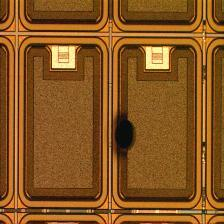PO CONTAMINATION: (104, 110, 143, 164)
